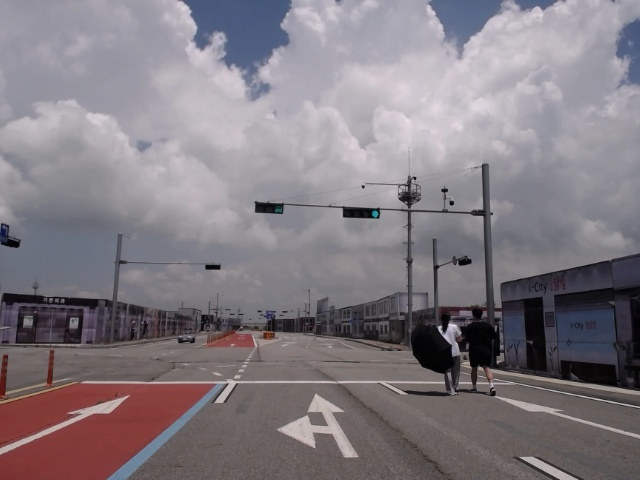straight_green_4: (344, 206, 381, 219)
